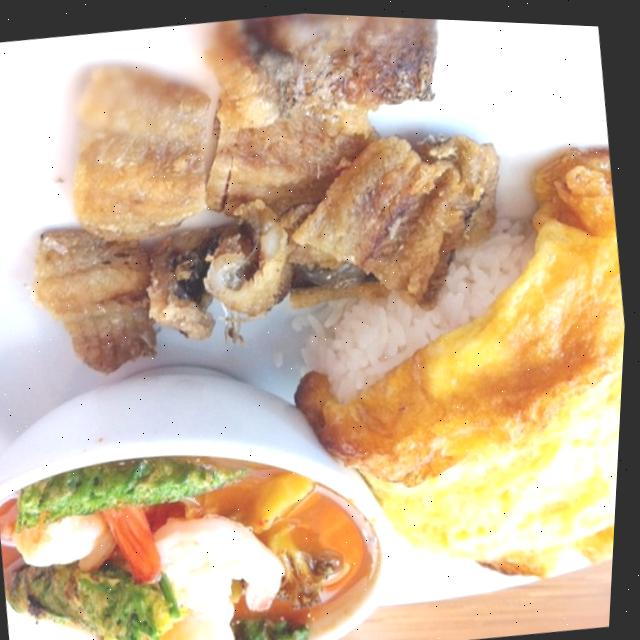汤锅炖物: (0, 372, 414, 640)
